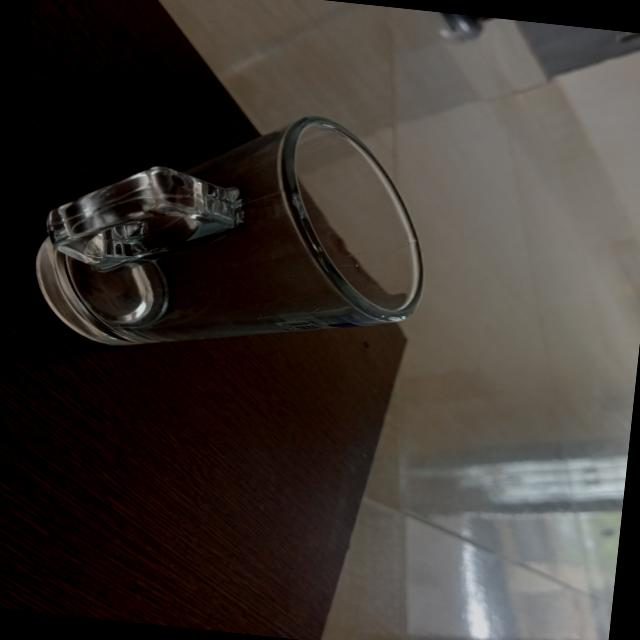glass-VX4N: (18, 87, 442, 381)
